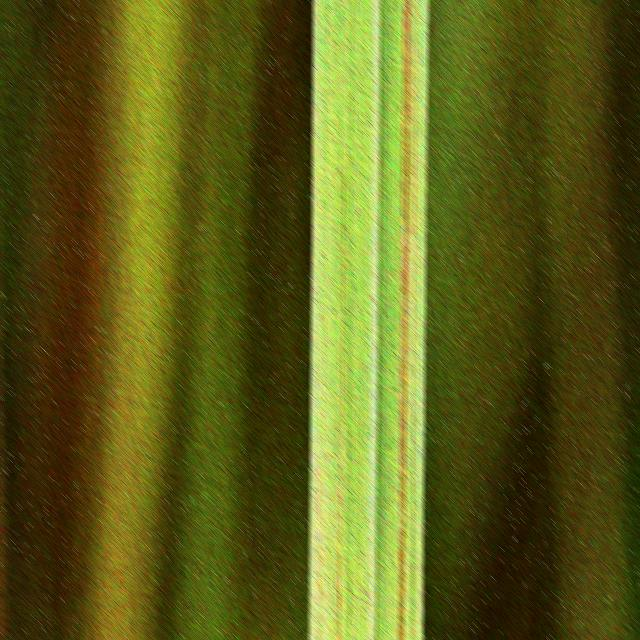BLS: (397, 0, 412, 640), (335, 172, 345, 640), (410, 0, 417, 640), (316, 417, 320, 640)
